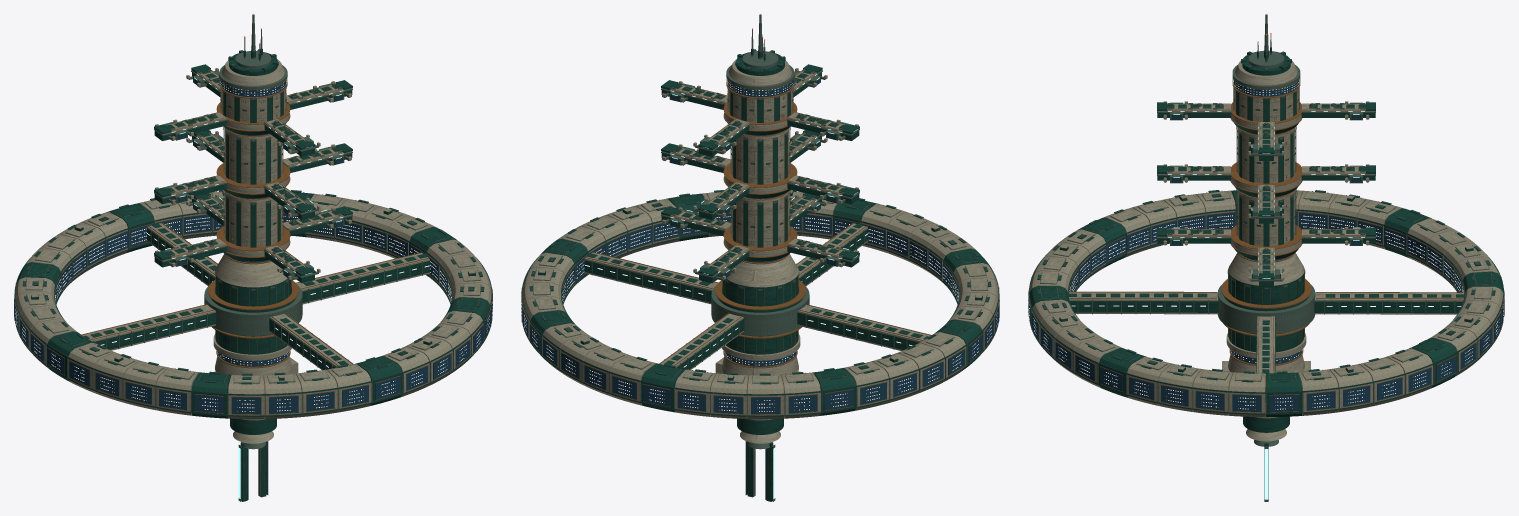
File: meridian_verdant_exchange.glb
3 renders of one model, left to right at view 1: azimuth 30°, elevation 25°; view 2: azimuth 150°, elevation 25°; view 3: azimuth 270°, elevation 25°, orthographic.
Visible parts, largest first — view 1: Habitat_Meridian_Pearl, Habitat_Meridian_Navy, Tower_Meridian_Navy, Tower_Meridian_Pearl, Habitat_Meridian_Glass, Habitat_Meridian_Silver, Tower_Meridian_Silver, Tower_Meridian_Champagne, Habitat_Meridian_Champagne, Tower_Meridian_Glass, Detail_fixed_Meridian_Silver, Habitat_Meridian_CoolWindows (+2 smaller); view 2: Habitat_Meridian_Pearl, Habitat_Meridian_Navy, Tower_Meridian_Navy, Tower_Meridian_Pearl, Habitat_Meridian_Glass, Habitat_Meridian_Silver, Tower_Meridian_Silver, Tower_Meridian_Champagne, Habitat_Meridian_Champagne, Tower_Meridian_Glass, Detail_fixed_Meridian_Silver, Habitat_Meridian_CoolWindows (+2 smaller); view 3: Habitat_Meridian_Pearl, Habitat_Meridian_Navy, Tower_Meridian_Pearl, Tower_Meridian_Navy, Habitat_Meridian_Glass, Habitat_Meridian_Silver, Tower_Meridian_Champagne, Tower_Meridian_Silver, Habitat_Meridian_Champagne, Detail_fixed_Meridian_Silver, Tower_Meridian_Glass, Habitat_Meridian_CoolWindows (+2 smaller).
Part boxes in pixels (x1=…): Habitat_Meridian_Pearl: x1=15, y1=190, x2=491, y2=419; Habitat_Meridian_Navy: x1=14, y1=189, x2=492, y2=418; Tower_Meridian_Navy: x1=154, y1=49, x2=352, y2=501; Tower_Meridian_Pearl: x1=155, y1=59, x2=352, y2=443; Habitat_Meridian_Glass: x1=14, y1=213, x2=492, y2=414; Habitat_Meridian_Silver: x1=14, y1=190, x2=492, y2=416; Tower_Meridian_Silver: x1=154, y1=14, x2=352, y2=501; Tower_Meridian_Champagne: x1=169, y1=70, x2=342, y2=368; Habitat_Meridian_Champagne: x1=14, y1=212, x2=492, y2=417; Tower_Meridian_Glass: x1=179, y1=79, x2=341, y2=366; Detail_fixed_Meridian_Silver: x1=164, y1=68, x2=342, y2=270; Habitat_Meridian_CoolWindows: x1=15, y1=216, x2=492, y2=411; Habitat_Meridian_Pearl: x1=522, y1=190, x2=998, y2=419; Habitat_Meridian_Navy: x1=521, y1=189, x2=999, y2=416; Tower_Meridian_Navy: x1=661, y1=47, x2=859, y2=501; Tower_Meridian_Pearl: x1=661, y1=59, x2=858, y2=443; Habitat_Meridian_Glass: x1=521, y1=213, x2=999, y2=414; Habitat_Meridian_Silver: x1=521, y1=190, x2=999, y2=416; Tower_Meridian_Silver: x1=661, y1=14, x2=859, y2=501; Tower_Meridian_Champagne: x1=671, y1=70, x2=844, y2=368; Habitat_Meridian_Champagne: x1=521, y1=212, x2=999, y2=417; Tower_Meridian_Glass: x1=672, y1=79, x2=834, y2=366; Detail_fixed_Meridian_Silver: x1=671, y1=68, x2=849, y2=270; Habitat_Meridian_CoolWindows: x1=521, y1=216, x2=997, y2=411; Habitat_Meridian_Pearl: x1=1029, y1=190, x2=1503, y2=416; Habitat_Meridian_Navy: x1=1029, y1=190, x2=1503, y2=416; Tower_Meridian_Pearl: x1=1157, y1=61, x2=1375, y2=441; Tower_Meridian_Navy: x1=1157, y1=47, x2=1375, y2=501; Habitat_Meridian_Glass: x1=1028, y1=212, x2=1504, y2=412; Habitat_Meridian_Silver: x1=1028, y1=190, x2=1504, y2=414; Tower_Meridian_Champagne: x1=1167, y1=77, x2=1365, y2=365; Tower_Meridian_Silver: x1=1157, y1=14, x2=1375, y2=501; Habitat_Meridian_Champagne: x1=1028, y1=201, x2=1504, y2=415; Detail_fixed_Meridian_Silver: x1=1168, y1=89, x2=1364, y2=273; Tower_Meridian_Glass: x1=1173, y1=80, x2=1359, y2=364; Habitat_Meridian_CoolWindows: x1=1028, y1=215, x2=1503, y2=409.
Size of the model in its own units: 1809 by 2016 by 1809.
Materials: 10 (5 with a texture image).
